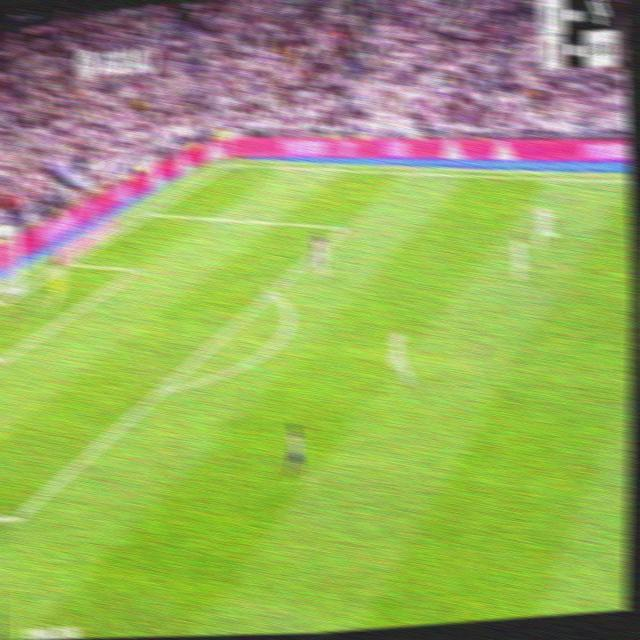bigarea_bottom_inner: (4, 501, 25, 536)
bigarea_top_inner: (337, 217, 352, 237)
bigarea_top_outter: (143, 203, 158, 220)
bottom_arc_area_intersection: (154, 376, 172, 402)
corner: (222, 156, 237, 170)
smallarea_top_inner: (129, 260, 144, 278)
top_arc_area_intersection: (264, 279, 281, 301)
